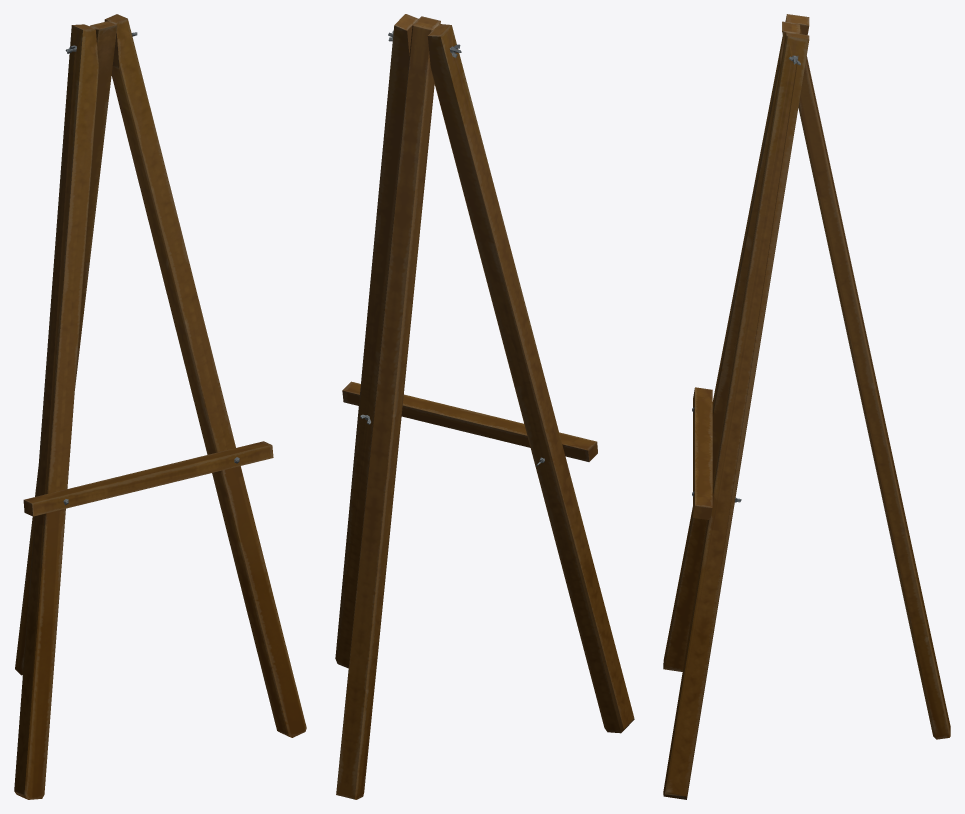
Rendered from easel.fbx.
3 renders of one model, left to right at view 1: azimuth 30°, elevation 25°; view 2: azimuth 150°, elevation 25°; view 3: azimuth 270°, elevation 25°, orthographic. The views are drawn at different scales.
Visible parts, largest first — view 1: Easel_Unfolded_Tray_Lowered; view 2: Easel_Unfolded_Tray_Lowered; view 3: Easel_Unfolded_Tray_Lowered.
Boxes of the visible parts, x1=… form: Easel_Unfolded_Tray_Lowered: x1=14, y1=14, x2=306, y2=799; Easel_Unfolded_Tray_Lowered: x1=335, y1=14, x2=634, y2=799; Easel_Unfolded_Tray_Lowered: x1=663, y1=14, x2=950, y2=799.
Bounding box in the file's own units: 75.64 × 180 × 66.19.
Materials: 1 (1 with a texture image).
